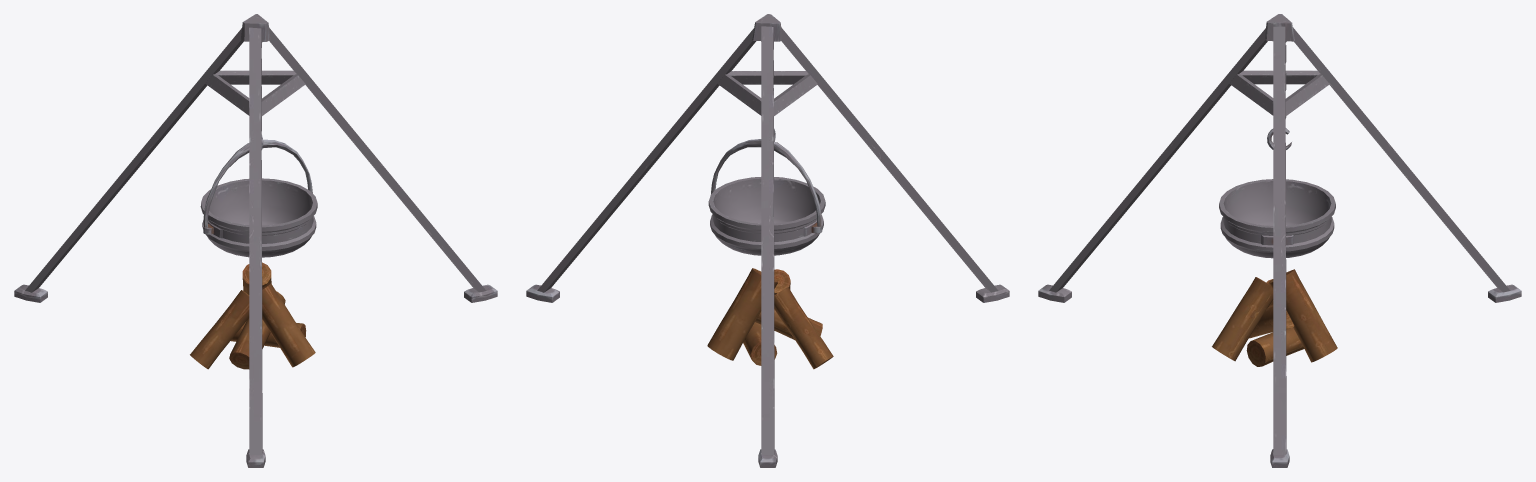
File: CampfireTripod.gltf
3 views of the same model, side by side, from view 1: azimuth 30°, elevation 25°; view 2: azimuth 150°, elevation 25°; view 3: azimuth 270°, elevation 25° (orthographic).
Parts seen in each view (by area): view 1: CampfireTripod; view 2: CampfireTripod; view 3: CampfireTripod.
Part boxes in pixels (<box>): CampfireTripod: <box>14,14,497,467</box>; CampfireTripod: <box>526,14,1009,467</box>; CampfireTripod: <box>1038,14,1521,467</box>.
Size of the model in its own units: 1.74 by 1.54 by 2.01.
Materials: 2 (2 with a texture image).
